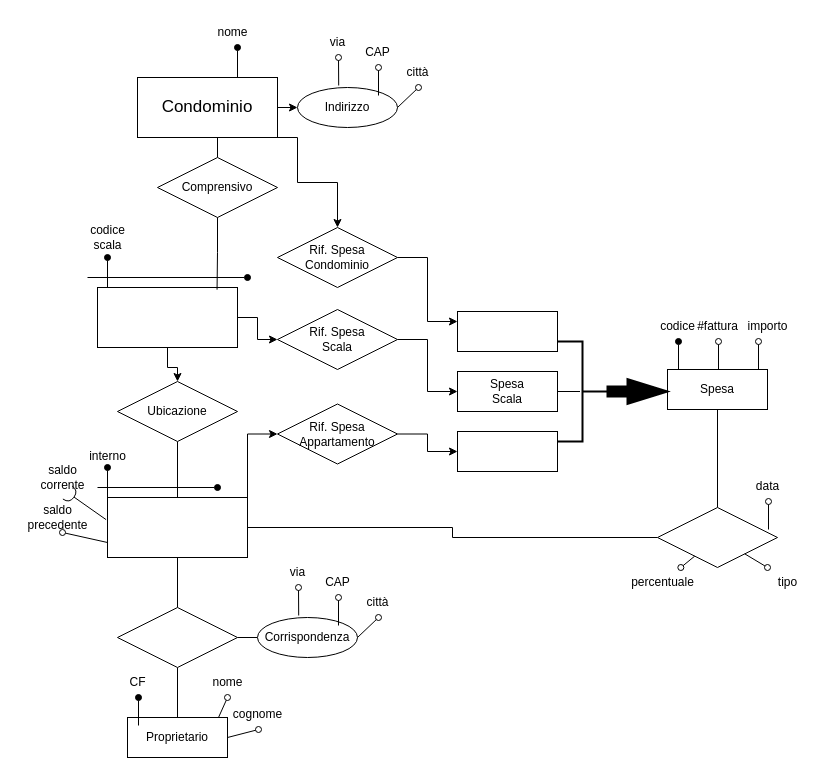
The diagram is 824 pixels wide and 775 high, and some of its shapes have lost their labels. The shapes that lost their labels are listed below. From the top down, each one's centre as x and y in pixels, then its label:
[167,317]: Scala
[507,331]: Spesa Condominiale
[507,451]: Spesa Appartamento
[177,527]: Appartamento
[717,537]: Pagamento
[177,637]: Proprietà
